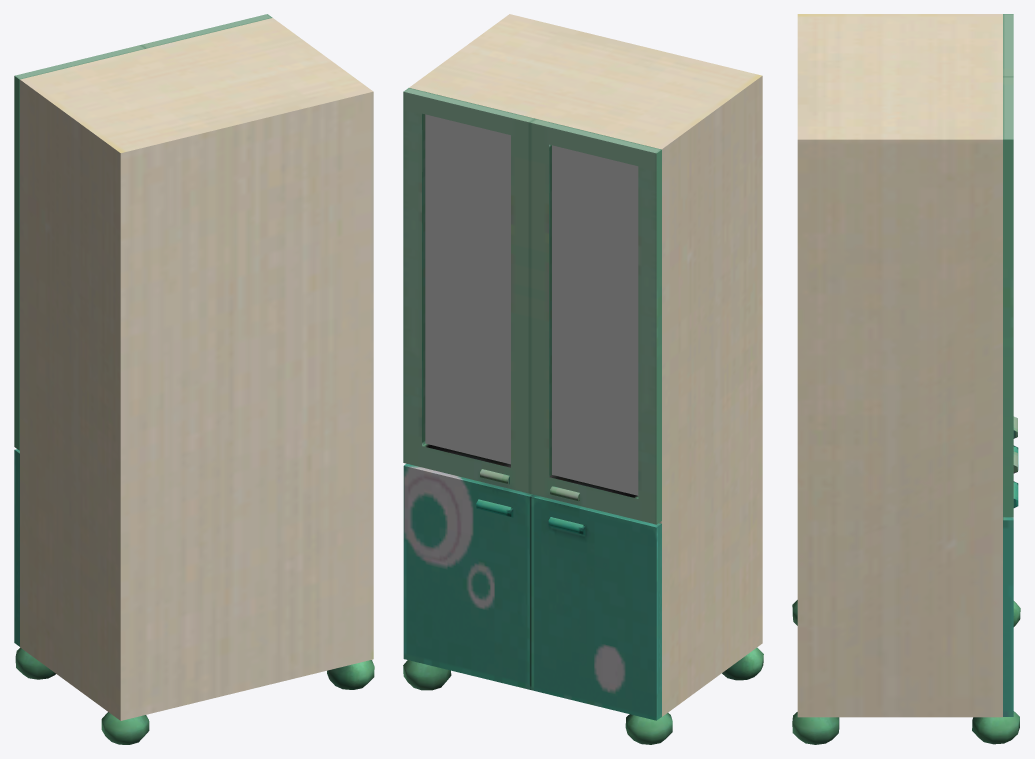
The model's file is furni_0200516_02.FBX.
The picture shows the model from 3 angles, left to right: view 1: azimuth 30°, elevation 25°; view 2: azimuth 150°, elevation 25°; view 3: azimuth 270°, elevation 25°; orthographic projection.
Visible parts, largest first — view 1: furni_0200516_02; view 2: furni_0200516_02; view 3: furni_0200516_02.
Boxes of the visible parts, bbox=[...] form: furni_0200516_02: bbox=[14, 14, 374, 744]; furni_0200516_02: bbox=[403, 14, 763, 744]; furni_0200516_02: bbox=[792, 14, 1020, 744].
Size of the model in its own units: 84.47 by 180 by 61.46.
